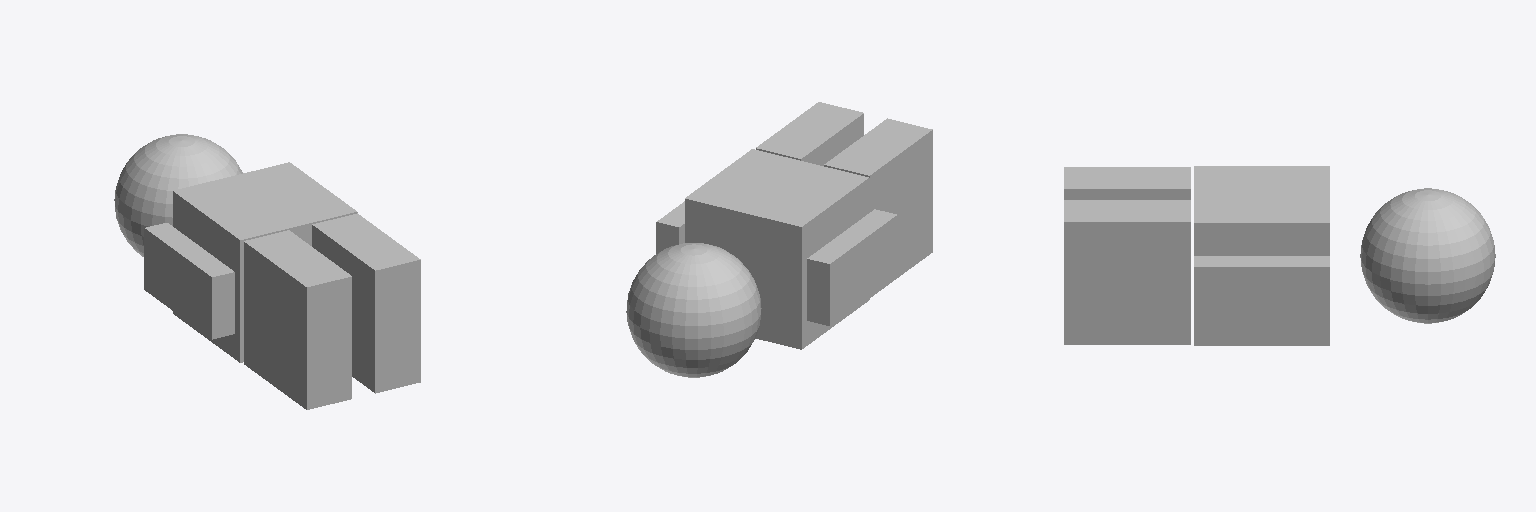
The model's file is sporty_robot_animation_000013.obj.
The picture shows the model from 3 angles: view 1: azimuth 30°, elevation 25°; view 2: azimuth 150°, elevation 25°; view 3: azimuth 270°, elevation 25°; orthographic projection.
Visible parts, largest first — view 1: Cube.002, Cube.001_Cube.005, Cube, Sphere.001, Cube.004; view 2: Cube, Sphere.001, Cube.002, Cube.004, Cube.001_Cube.005, Cube.003; view 3: Cube.001_Cube.005, Cube, Sphere.001, Cube.003, Cube.002.
Boxes of the visible parts, box(x1,y1,x2,y2) form: Cube.002: box(244, 230, 351, 409); Cube.001_Cube.005: box(312, 213, 420, 393); Cube: box(173, 162, 357, 362); Sphere.001: box(114, 134, 242, 256); Cube.004: box(144, 223, 234, 339); Cube: box(685, 149, 869, 349); Sphere.001: box(626, 243, 761, 377); Cube.002: box(824, 118, 932, 297); Cube.004: box(807, 209, 897, 325); Cube.001_Cube.005: box(756, 102, 863, 165); Cube.003: box(656, 201, 684, 253); Cube.001_Cube.005: box(1064, 200, 1190, 344); Cube: box(1194, 166, 1329, 345); Sphere.001: box(1360, 188, 1495, 323); Cube.003: box(1194, 256, 1329, 328); Cube.002: box(1064, 167, 1190, 199).
Bounding box in the file's own units: 0.76 × 0.514 × 1.64.